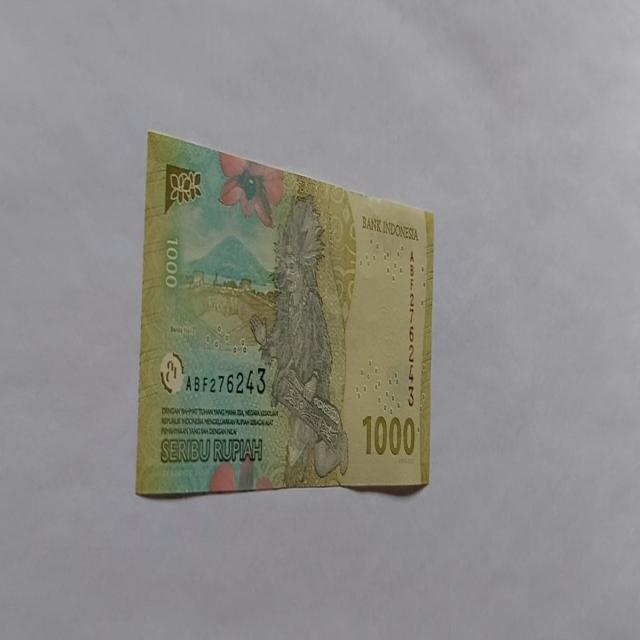seribu rupiah kertas: (134, 129, 436, 498)
